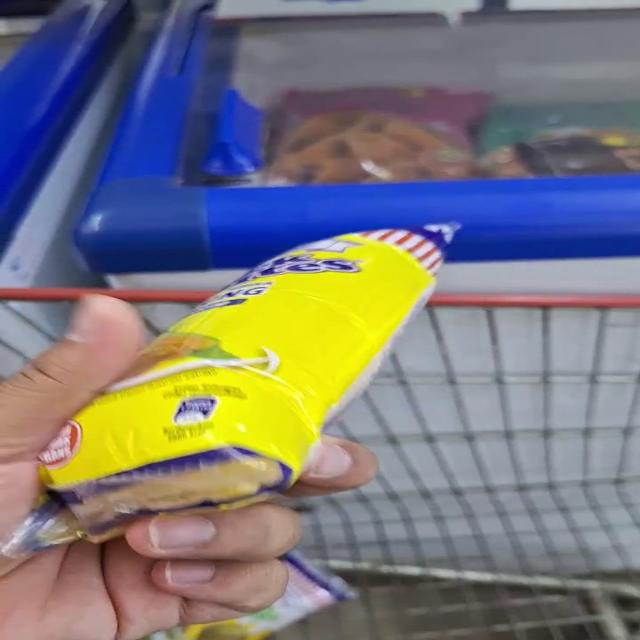Roti: (43, 219, 453, 513)
